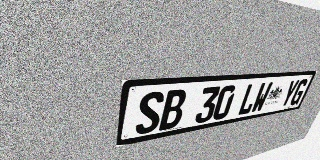0: (211, 85, 237, 121)
3: (194, 86, 221, 124)
B: (158, 89, 188, 131)
G: (288, 79, 309, 106)
L: (236, 83, 261, 116)
S: (135, 91, 165, 135)
W: (250, 82, 273, 113)
Y: (279, 79, 300, 108)
